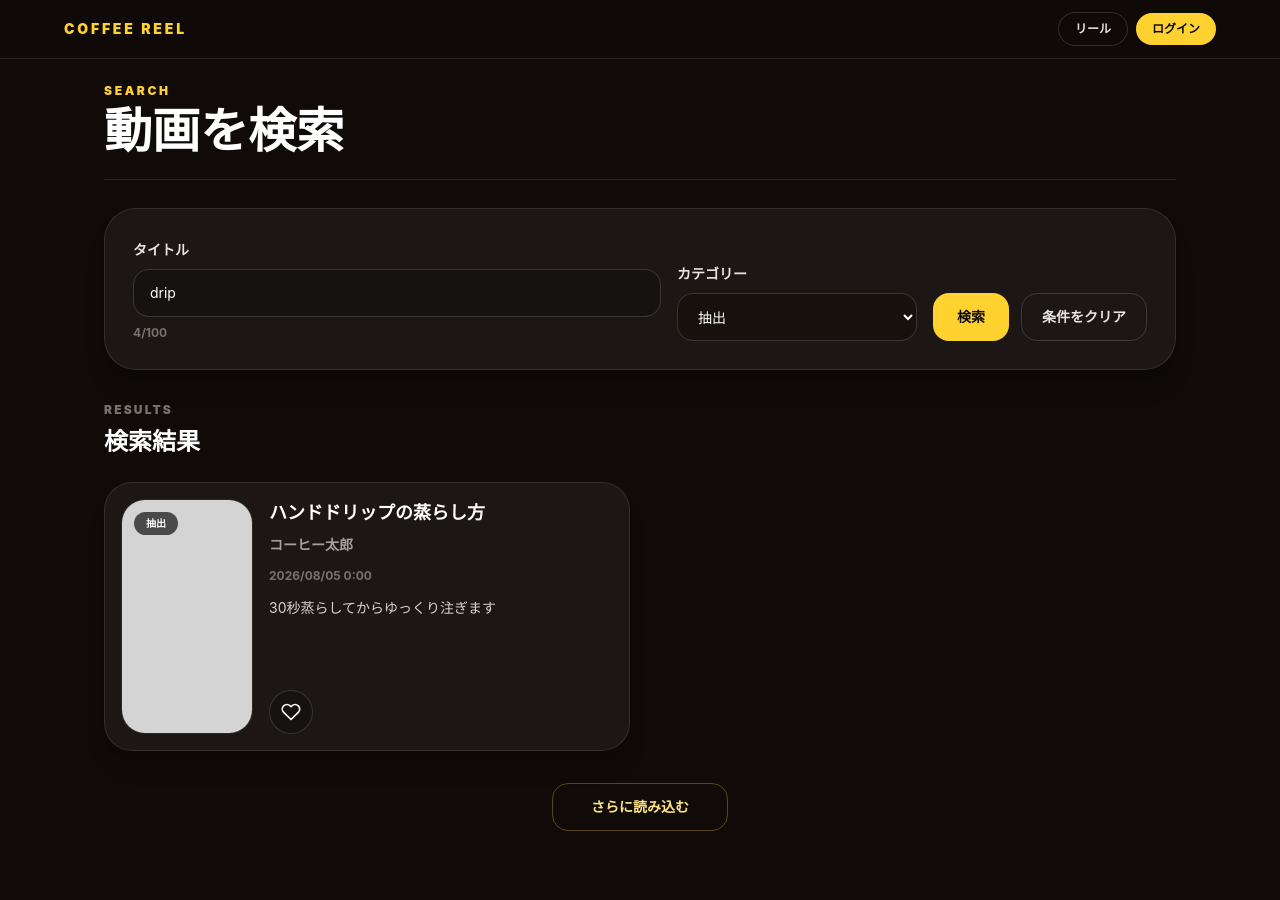
SearchPage › 次Pageは同じ検索条件とBackendのnext_cursorを変更せず送る
expect the link "ハンドドリップの蒸らし方" is shown: met, box top-left (269, 499), bottom-right (485, 527)
Click the button "さらに読み込む": (640, 807) top-left (552, 783), bottom-right (728, 831)
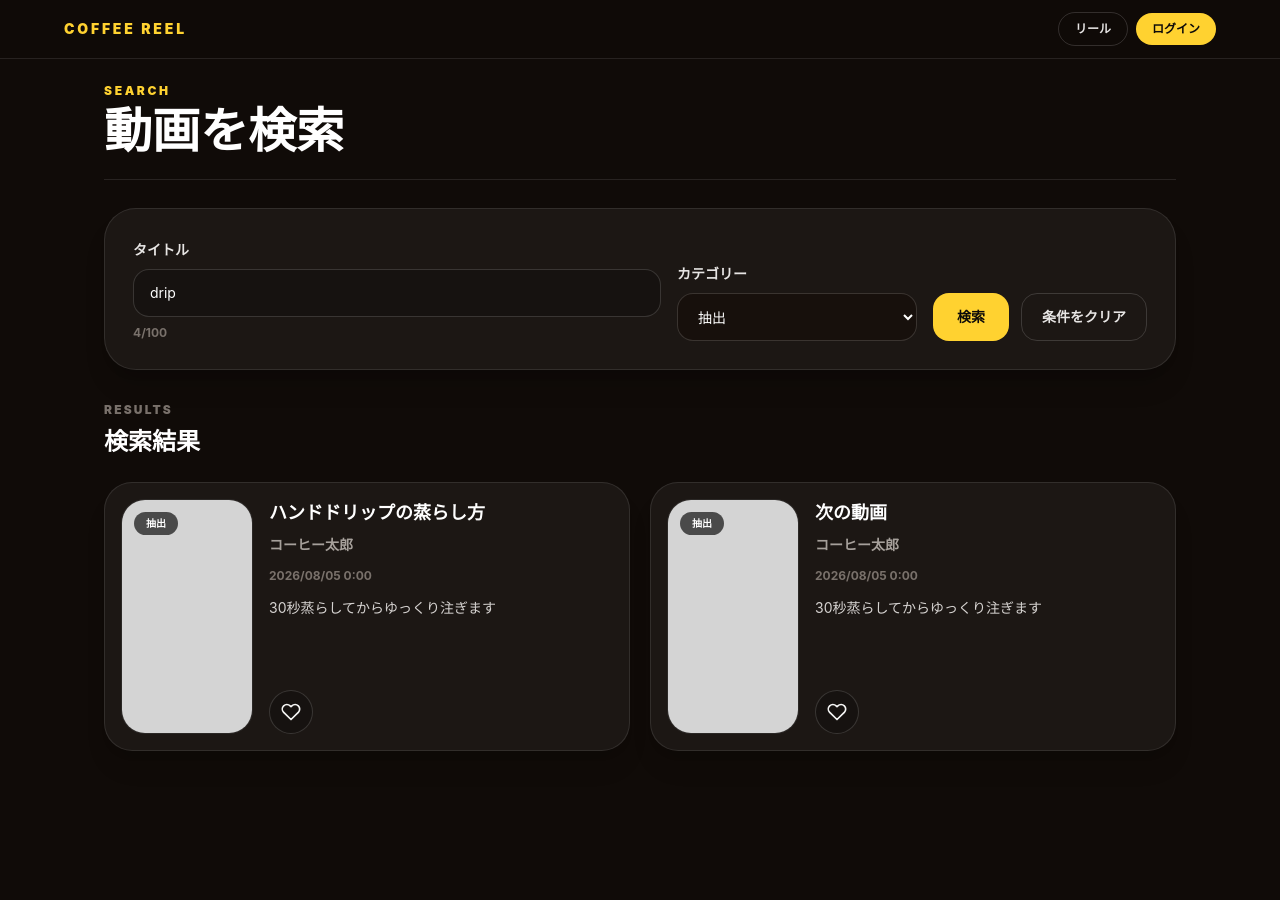
expect the link "次の動画" is shown: met, box top-left (815, 499), bottom-right (899, 527)
